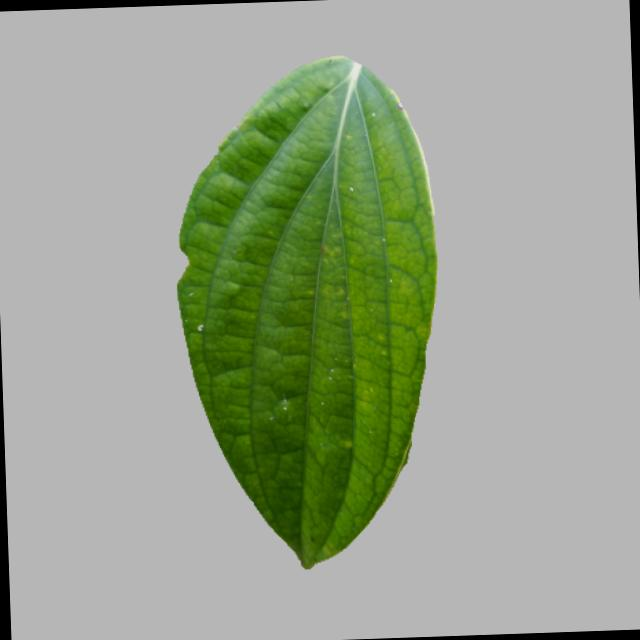healthy: (164, 51, 450, 572)
